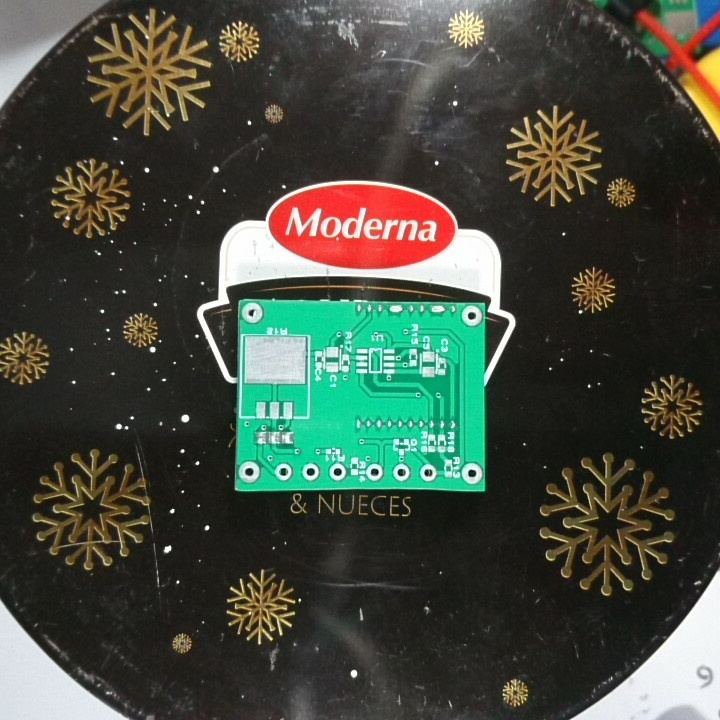F: (239, 300, 266, 327), (459, 459, 484, 486), (237, 460, 264, 485), (459, 303, 482, 330), (273, 461, 294, 485), (301, 460, 322, 483), (391, 461, 412, 483), (327, 461, 348, 482), (417, 461, 437, 483), (365, 463, 385, 484)
P: (428, 303, 448, 317), (388, 303, 405, 318)
